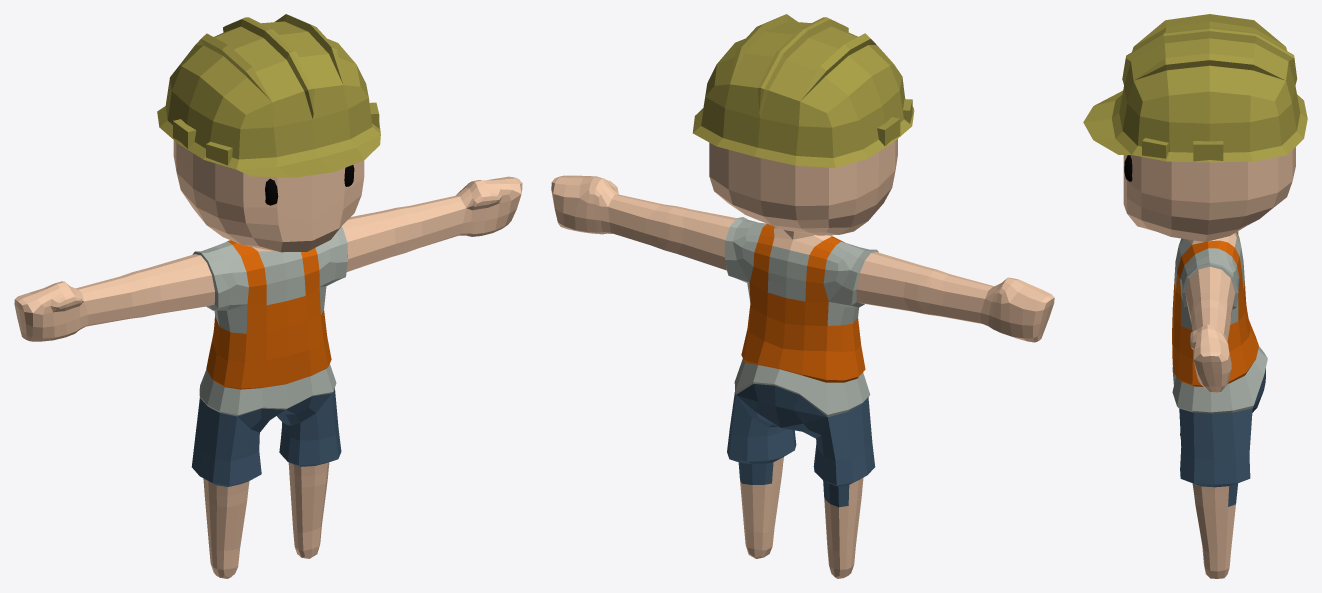
Rendered from MALE_WORKER.fbx.
The picture shows the model from 3 angles, left to right: view 1: azimuth 30°, elevation 25°; view 2: azimuth 150°, elevation 25°; view 3: azimuth 270°, elevation 25°; orthographic projection.
Visible parts, largest first — view 1: Body; view 2: Body; view 3: Body.
Boxes of the visible parts, left/top/right/bottom form: Body: left=14, top=14, right=522, bottom=578; Body: left=551, top=14, right=1054, bottom=578; Body: left=1083, top=14, right=1307, bottom=578.
Bounding box in the file's own units: 324 × 334 × 128.
